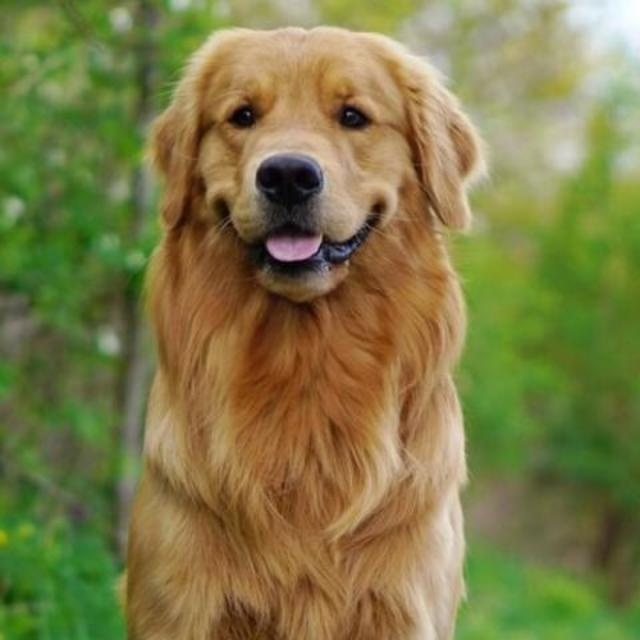dog: (64, 2, 494, 640)
